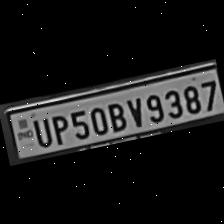0: (83, 102, 108, 137)
3: (160, 85, 184, 120)
5: (64, 106, 90, 141)
7: (196, 76, 221, 112)
8: (178, 81, 202, 116)
9: (138, 89, 164, 124)
B: (102, 98, 128, 133)
P: (44, 110, 70, 146)
U: (27, 114, 52, 148)
V: (120, 94, 145, 130)
